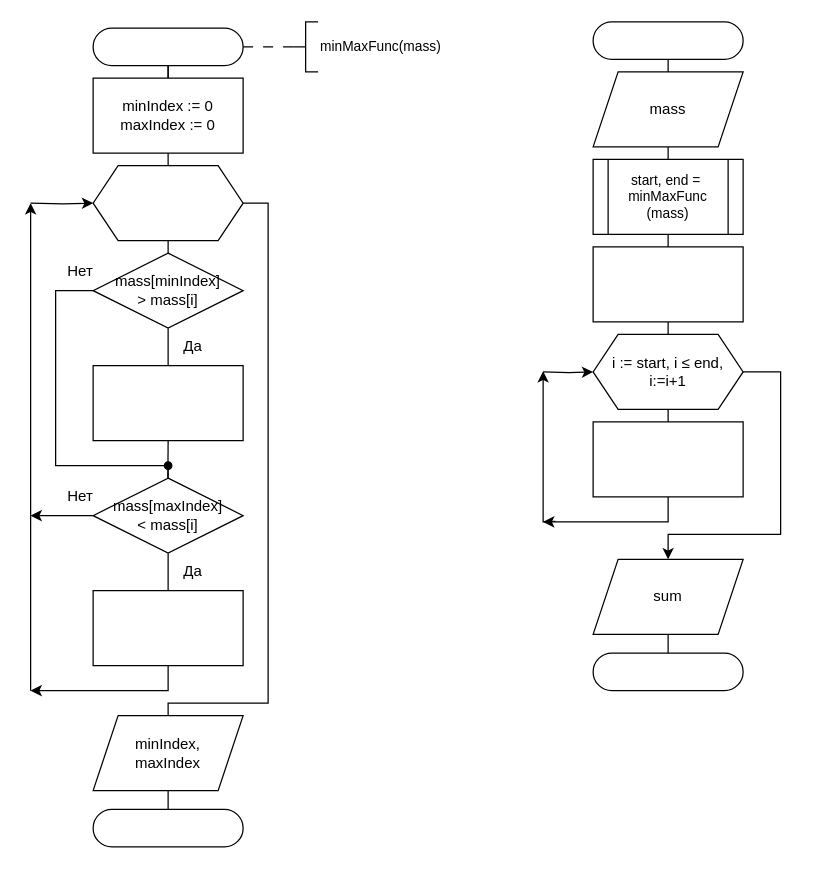
Image size: 813x869. Some labels were removed from this diagram. Each missing label, with the box of its shape:
i := 1, i ≤ n-1 , i:=i+1: (92, 164, 243, 241)
maxIndex := i: (92, 589, 243, 666)
minIndex := i: (92, 364, 243, 441)
sum := 0: (592, 246, 743, 322)
sum := sum + mass[i]: (592, 421, 743, 497)
